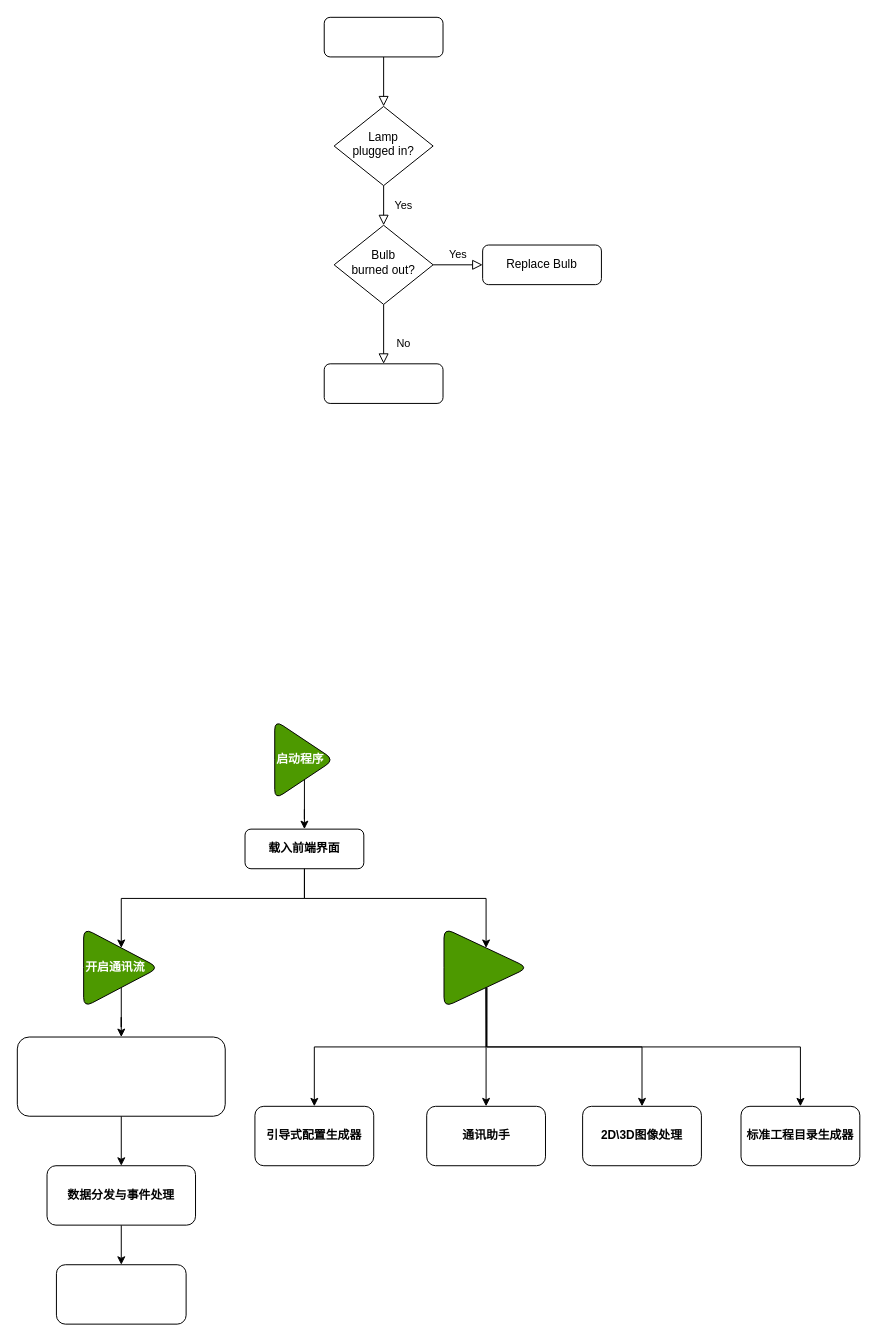
Some shapes in this 877 by 1341 pixel diagram are drawn without their labels. Here are the shapes that lost their labels. From the top down, the centre of each, then its label:
At pixel 383 36: "Lamp doesn't work".
At pixel 383 383: "Repair Lamp".
At pixel 485 967: "其他功能块".
At pixel 120 1076: "建立通讯流 Mech服务器、Robot服务器".
At pixel 120 1294: "日志记录与前端可视化".
